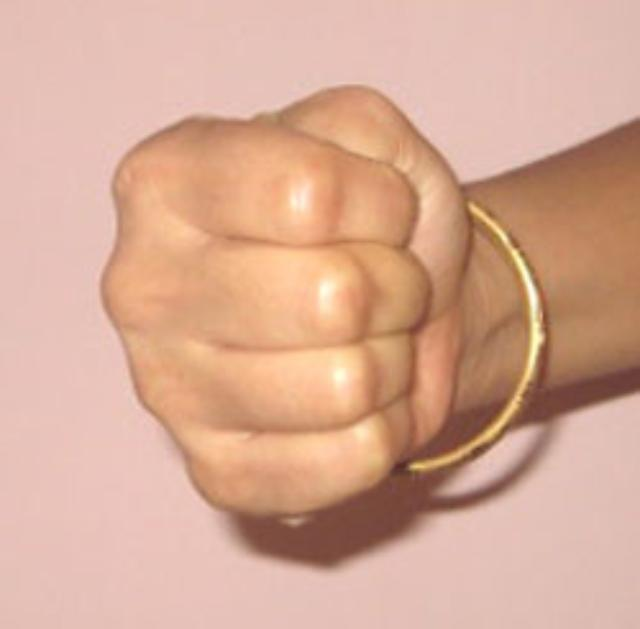mushti: (96, 80, 534, 546)
